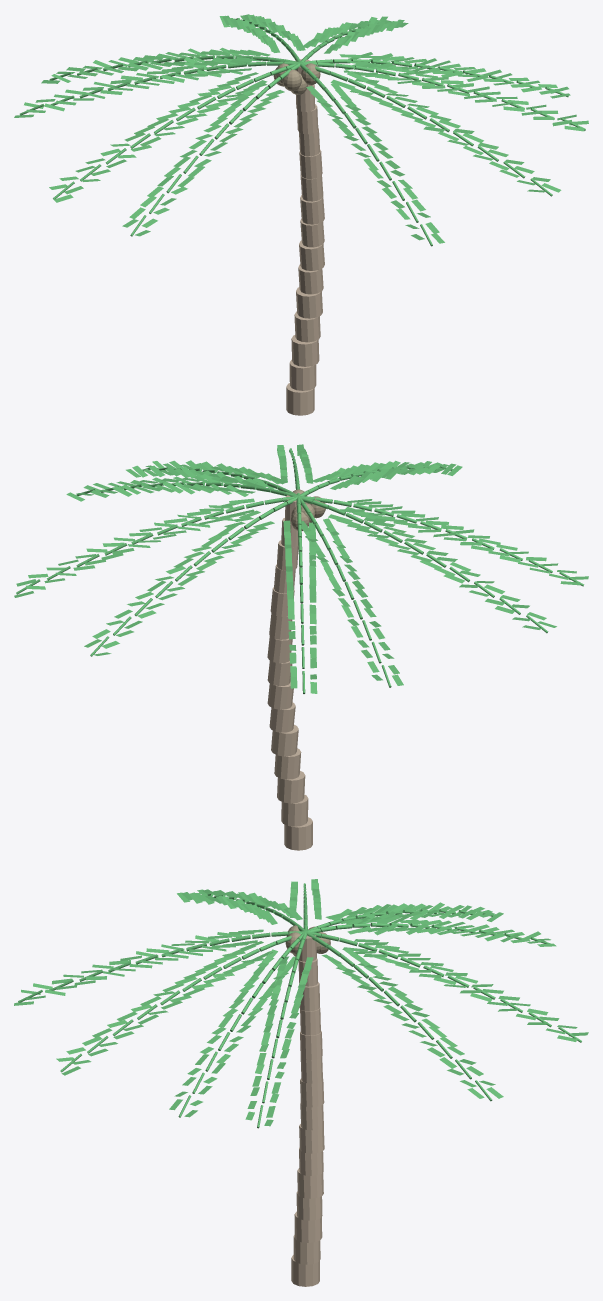
3 views of the same model, one above another, from view 1: azimuth 30°, elevation 25°; view 2: azimuth 150°, elevation 25°; view 3: azimuth 270°, elevation 25° (orthographic).
Parts seen in each view (by area): view 1: PalmTrunk_Seg0, PalmTrunk_Seg2, PalmTrunk_Seg1, PalmTrunk_Seg4, PalmTrunk_Seg3, PalmTrunk_Seg6, PalmTrunk_Seg5, PalmTrunk_Seg8, PalmTrunk_Seg7, PalmTrunk_Seg10; view 2: PalmTrunk_Seg0, PalmTrunk_Seg2, PalmTrunk_Seg4, PalmTrunk_Seg1, PalmTrunk_Seg3, PalmTrunk_Seg5, PalmTrunk_Seg6, PalmTrunk_Seg8, PalmTrunk_Seg7; view 3: PalmTrunk_Seg0, PalmTrunk_Seg2, PalmTrunk_Seg4, PalmTrunk_Seg1, PalmTrunk_Seg6, PalmTrunk_Seg3, PalmTrunk_Seg8, PalmTrunk_Seg5, PalmTrunk_Seg10, PalmTrunk_Seg7, PalmTrunk_Seg9.
Part boxes in pixels (bbox=[...]): PalmTrunk_Seg0: bbox=[286, 383, 314, 415]; PalmTrunk_Seg2: bbox=[291, 335, 319, 366]; PalmTrunk_Seg1: bbox=[289, 359, 316, 390]; PalmTrunk_Seg4: bbox=[296, 287, 322, 318]; PalmTrunk_Seg3: bbox=[294, 311, 320, 342]; PalmTrunk_Seg6: bbox=[299, 240, 324, 270]; PalmTrunk_Seg5: bbox=[298, 264, 323, 294]; PalmTrunk_Seg8: bbox=[300, 195, 324, 224]; PalmTrunk_Seg7: bbox=[300, 218, 324, 247]; PalmTrunk_Seg10: bbox=[299, 149, 322, 179]; PalmTrunk_Seg0: bbox=[284, 817, 312, 850]; PalmTrunk_Seg2: bbox=[277, 771, 305, 803]; PalmTrunk_Seg4: bbox=[271, 724, 298, 756]; PalmTrunk_Seg1: bbox=[281, 794, 308, 826]; PalmTrunk_Seg3: bbox=[274, 748, 301, 779]; PalmTrunk_Seg5: bbox=[269, 702, 295, 732]; PalmTrunk_Seg6: bbox=[267, 682, 293, 709]; PalmTrunk_Seg8: bbox=[267, 635, 292, 663]; PalmTrunk_Seg7: bbox=[267, 660, 292, 685]; PalmTrunk_Seg0: bbox=[291, 1255, 319, 1286]; PalmTrunk_Seg2: bbox=[294, 1211, 322, 1242]; PalmTrunk_Seg4: bbox=[297, 1168, 323, 1198]; PalmTrunk_Seg1: bbox=[293, 1235, 320, 1264]; PalmTrunk_Seg6: bbox=[299, 1124, 324, 1153]; PalmTrunk_Seg3: bbox=[296, 1191, 322, 1220]; PalmTrunk_Seg8: bbox=[300, 1078, 324, 1107]; PalmTrunk_Seg5: bbox=[299, 1147, 323, 1175]; PalmTrunk_Seg10: bbox=[300, 1031, 322, 1059]; PalmTrunk_Seg7: bbox=[300, 1102, 323, 1130]; PalmTrunk_Seg9: bbox=[300, 1056, 322, 1083].
Bounding box in the file's own units: 10.61 × 7.06 × 10.5.
